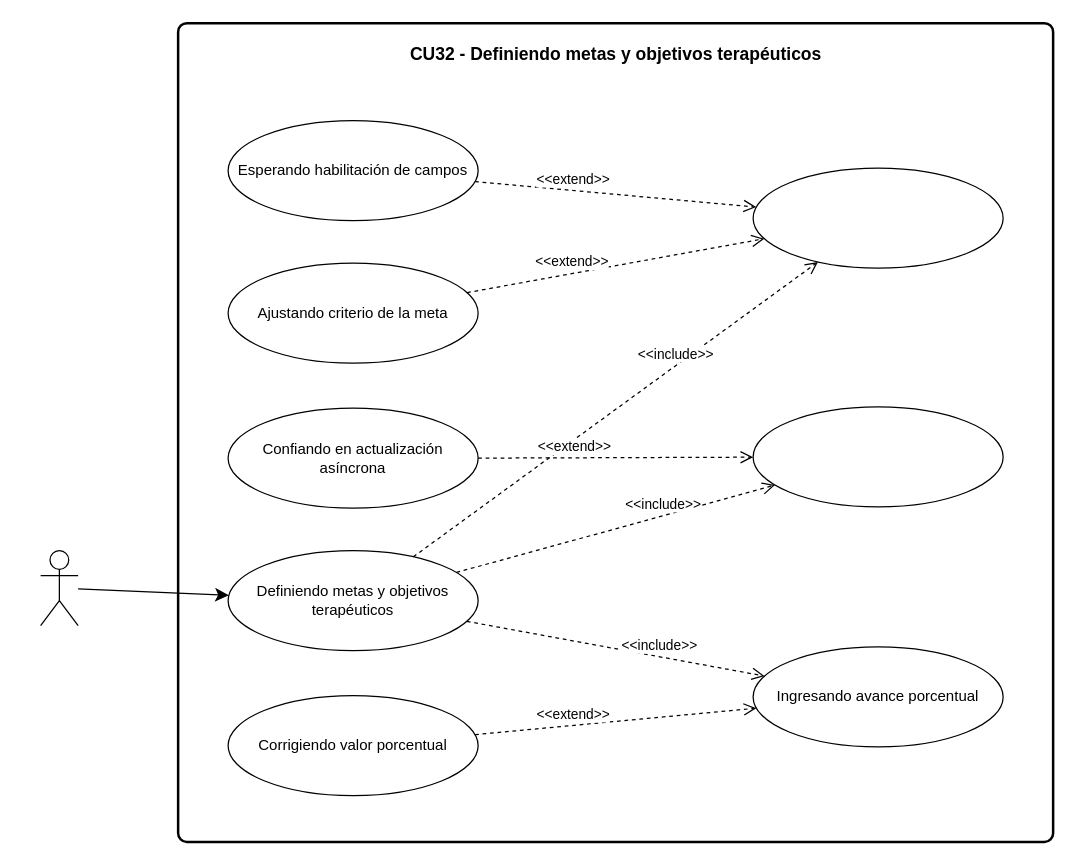
This 1076x864 diagram has some shape labels left out. Here are the shapes that lost their labels. From the top down, the box of each, then its label:
(752, 167, 1003, 268): Parametrizando metas clínicas
(752, 406, 1003, 507): Actualizando ficha clínica y panel de progreso
(39, 549, 78, 626): Profesional
